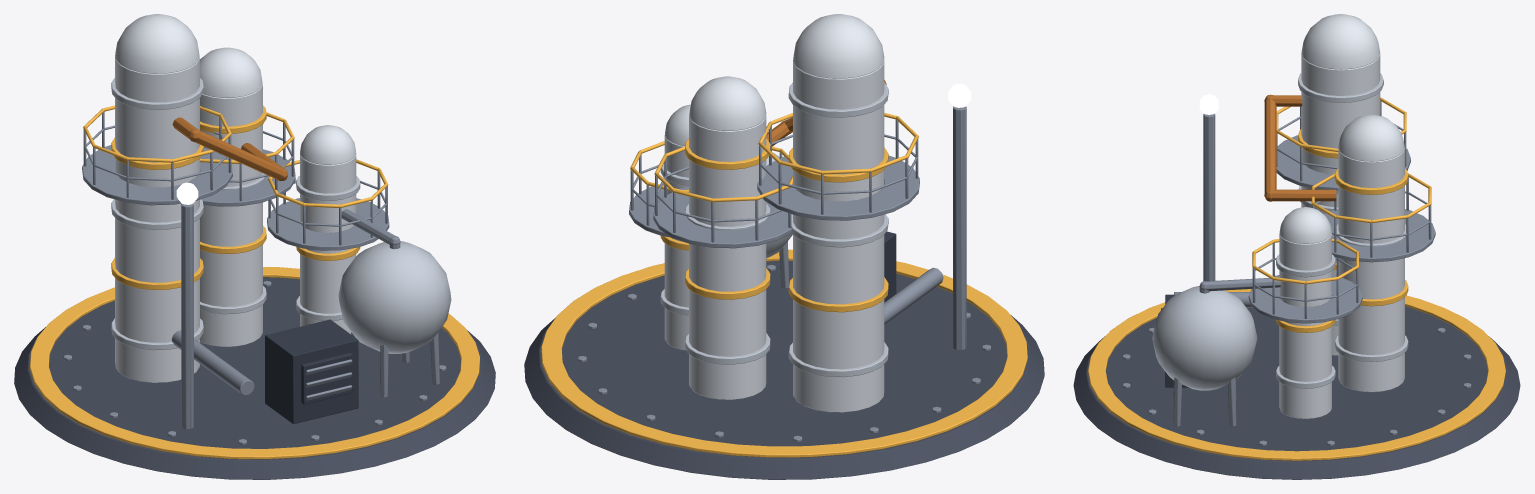
Rendered from raff.fbx.
3 views of the same model, side by side, from view 1: azimuth 30°, elevation 25°; view 2: azimuth 150°, elevation 25°; view 3: azimuth 270°, elevation 25° (orthographic). The views are drawn at different scales.
Visible parts, largest first — view 1: raff_Koerper; view 2: raff_Koerper; view 3: raff_Koerper.
Part boxes in pixels (x1=…): raff_Koerper: x1=14, y1=14, x2=495, y2=479; raff_Koerper: x1=524, y1=14, x2=1044, y2=479; raff_Koerper: x1=1073, y1=14, x2=1520, y2=479.
Bounding box in the file's own units: 5.09 × 4.21 × 5.09.
